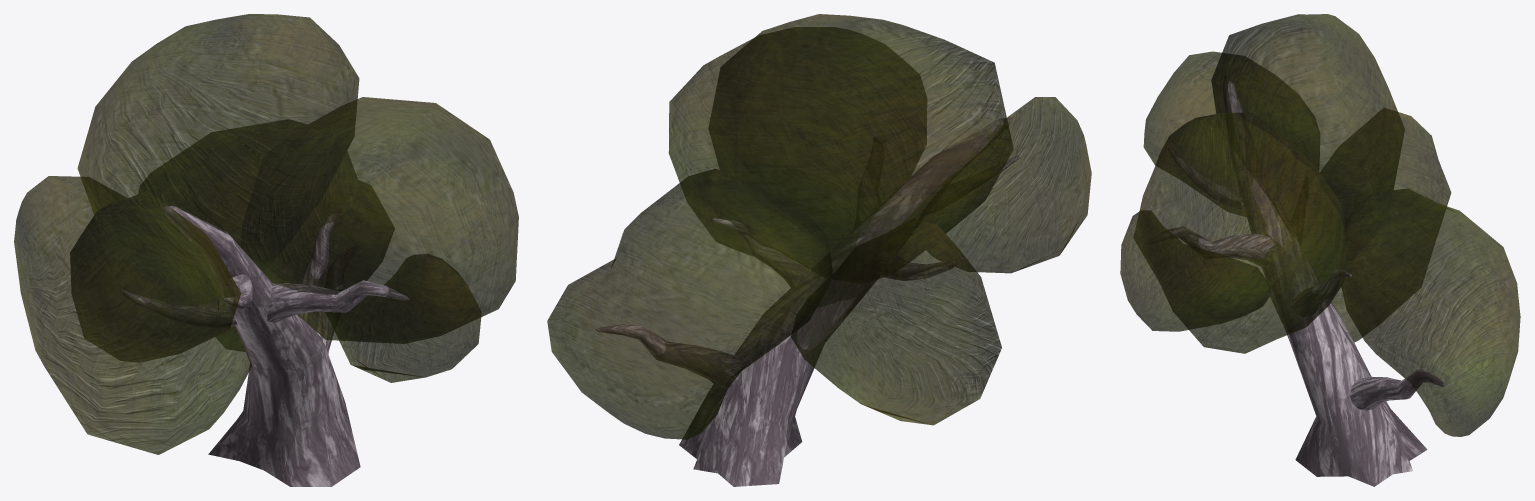
Rendered from Tree02.glb.
The picture shows the model from 3 angles, left to right: view 1: azimuth 30°, elevation 25°; view 2: azimuth 150°, elevation 25°; view 3: azimuth 270°, elevation 25°; orthographic projection. The views are drawn at different scales.
Parts seen in each view (by area): view 1: Tree02; view 2: Tree02; view 3: Tree02.
Boxes of the visible parts, x1=… form: Tree02: x1=14, y1=14, x2=518, y2=486; Tree02: x1=547, y1=14, x2=1091, y2=486; Tree02: x1=1120, y1=14, x2=1520, y2=486.
Bounding box in the file's own units: 5.88 × 6.07 × 5.57.
2 materials, 2 textured.
